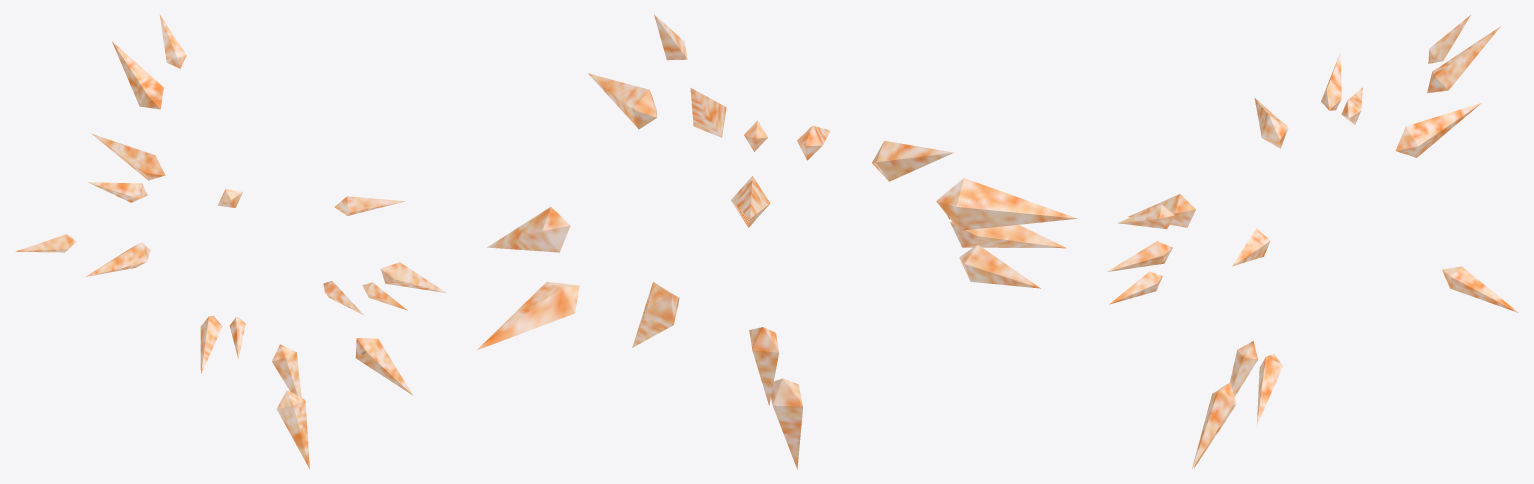
Rendered from explosion_shards.glb.
3 views of the same model, side by side, from view 1: azimuth 30°, elevation 25°; view 2: azimuth 150°, elevation 25°; view 3: azimuth 270°, elevation 25° (orthographic). The views are drawn at different scales.
Parts seen in each view (by area): view 1: shards; view 2: shards; view 3: shards.
Part boxes in pixels (x1,y1,x2,y2): shards: (15, 14, 446, 469); shards: (476, 14, 1076, 469); shards: (1107, 14, 1518, 468).
Bounding box in the file's own units: 4.81 × 4.46 × 3.83.
1 material, 1 textured.
